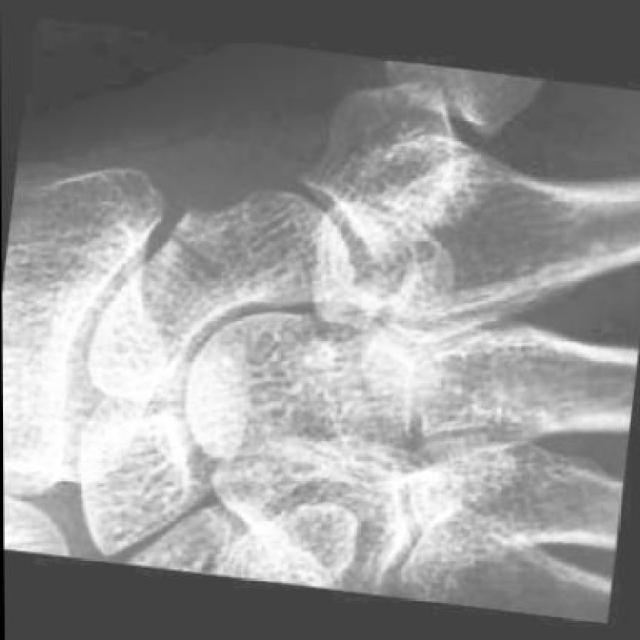Fracture: (165, 228, 241, 296)
